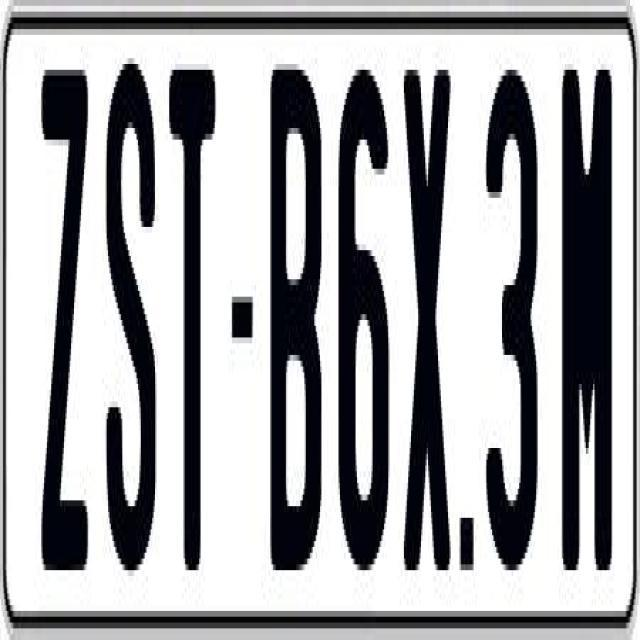3: (482, 58, 541, 576)
6: (338, 58, 392, 559)
B: (270, 52, 330, 558)
M: (560, 58, 613, 582)
S: (102, 46, 150, 582)
T: (169, 58, 218, 588)
X: (402, 52, 452, 558)
Z: (40, 58, 92, 588)
